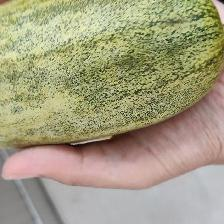gua: (1, 2, 213, 146)
